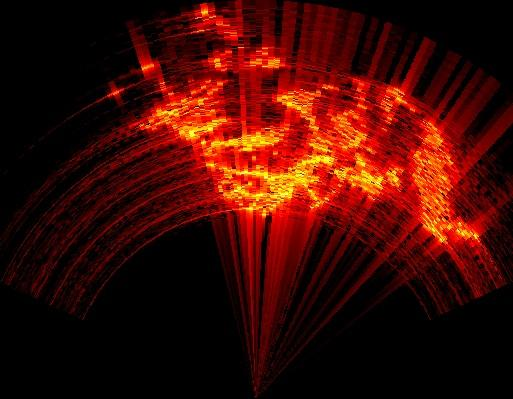shipwreck: (228, 80, 477, 241), (206, 128, 284, 171), (152, 104, 227, 147)
